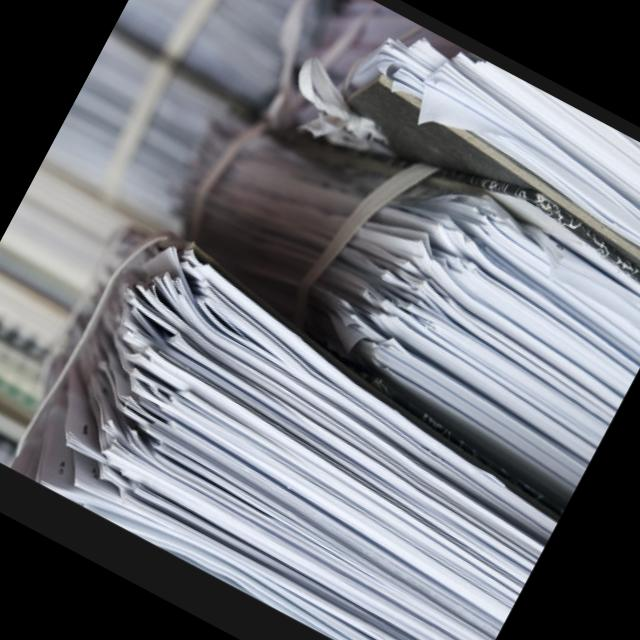KertasBekas: (0, 0, 640, 640), (4, 215, 592, 640)
